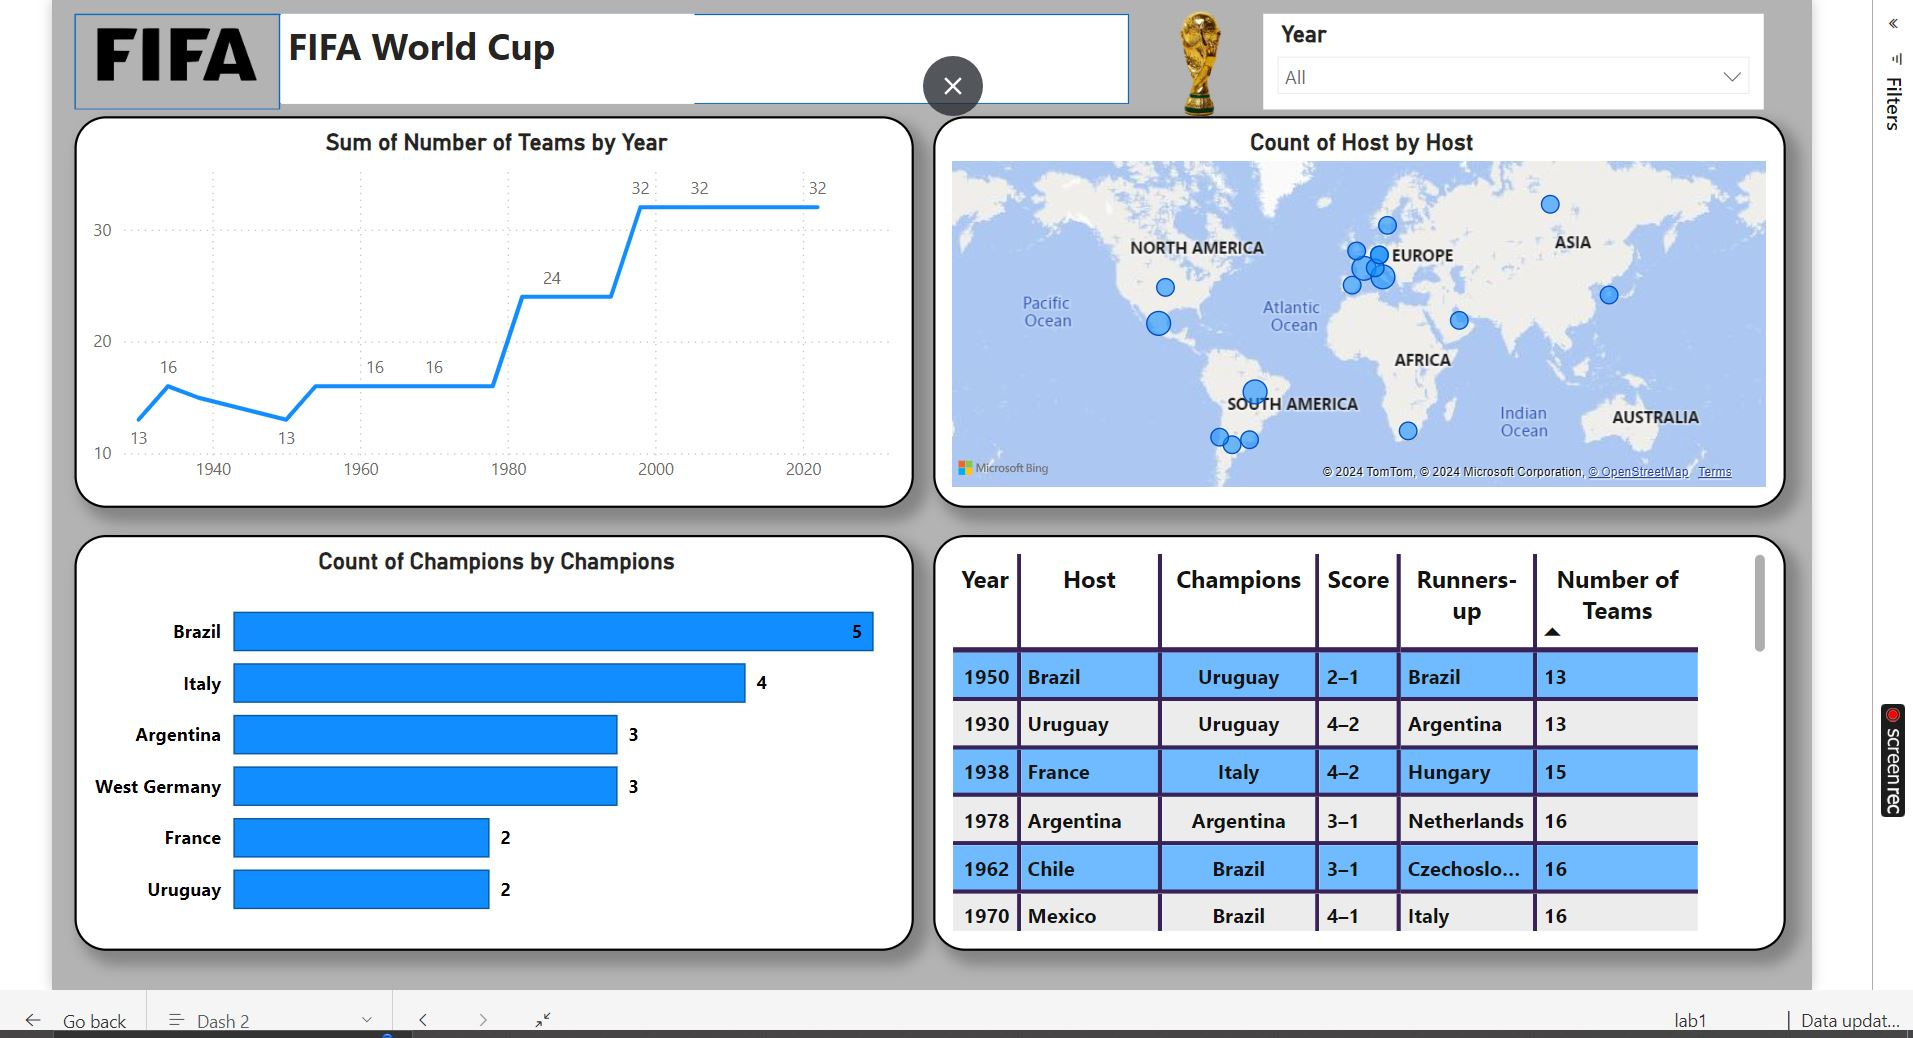

The dashboard page shown, as its layout file describes it:
{"tool":"powerbi","page":{"name":"Dash 2","canvas":[1280,720],"ordinal":1},"visuals":[{"type":"shape","box":[16.5,9.6,767.1,65.9],"z":0},{"type":"clusteredBarChart","fields":{"Category":["WorldCup.Champions"],"Y":["CountNonNull(WorldCup.Champions)"]},"box":[16.7,389.3,610.7,302.4],"z":1000},{"type":"lineChart","fields":{"Y":["Sum(WorldCup.Number of Teams)"],"Category":["WorldCup.Year"]},"box":[16.7,84.5,610.7,284.5],"z":2000},{"type":"map","fields":{"Category":["WorldCup.Host"],"Size":["CountNonNull(WorldCup.Host)"]},"box":[640.5,84.5,620.2,284.5],"z":3000},{"type":"tableEx","fields":{"Values":["WorldCup.Year","WorldCup.Host","WorldCup.Champions","WorldCup.Score","WorldCup.Runners-up","WorldCup.Number of Teams"]},"box":[640.5,389.3,620.2,302.4],"z":4000},{"type":"textbox","box":[166,9.6,300.5,65.9],"z":5000},{"type":"slicer","fields":{"Values":["WorldCup.Year"]},"box":[881,9.6,363.6,70],"z":6000},{"type":"shape","box":[16.5,9.6,149.6,70],"z":7000},{"type":"image","box":[16.7,0,148.8,79.8],"z":8000},{"type":"image","box":[627.4,0,416.7,92.9],"z":8001}]}

Visuals, with their boxes in screenshot pixels (x1, y1, x2, y2):
shape: select_region(72, 13, 1123, 103)
clusteredBarChart - WorldCup.Champions x CountNonNull(WorldCup.Champions): select_region(73, 533, 909, 947)
lineChart - Sum(WorldCup.Number of Teams) x WorldCup.Year: select_region(73, 116, 909, 505)
map - WorldCup.Host x CountNonNull(WorldCup.Host): select_region(927, 116, 1776, 505)
tableEx - WorldCup.Year x WorldCup.Host: select_region(927, 533, 1776, 947)
textbox: select_region(277, 13, 688, 103)
slicer - WorldCup.Year: select_region(1256, 13, 1754, 109)
shape: select_region(72, 13, 277, 109)
image: select_region(73, 0, 276, 109)
image: select_region(909, 0, 1479, 127)
